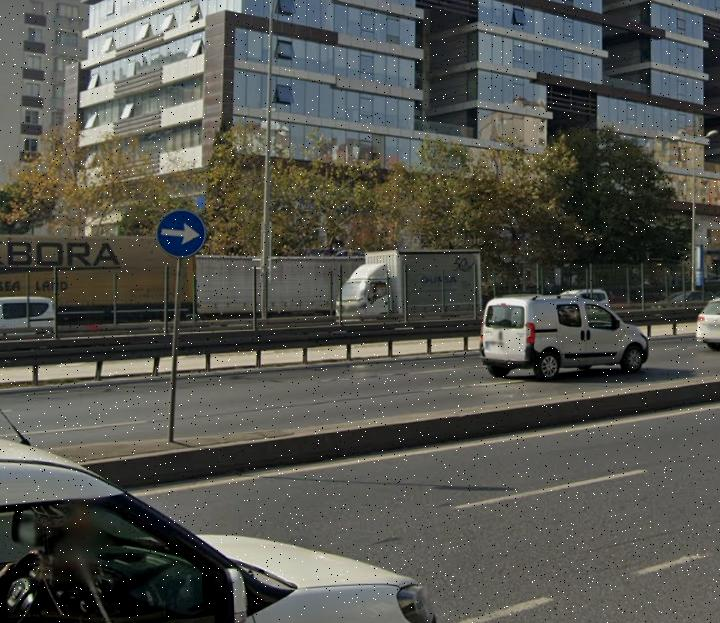turnright: (158, 209, 206, 256)
